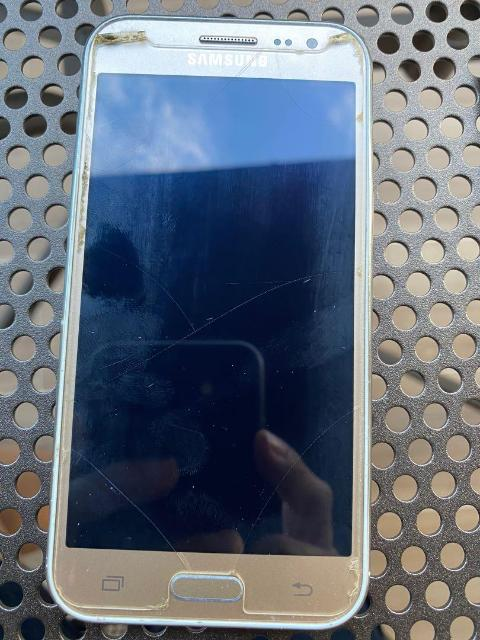Scratches: (80, 224, 357, 388), (224, 389, 362, 579), (69, 436, 198, 579)
